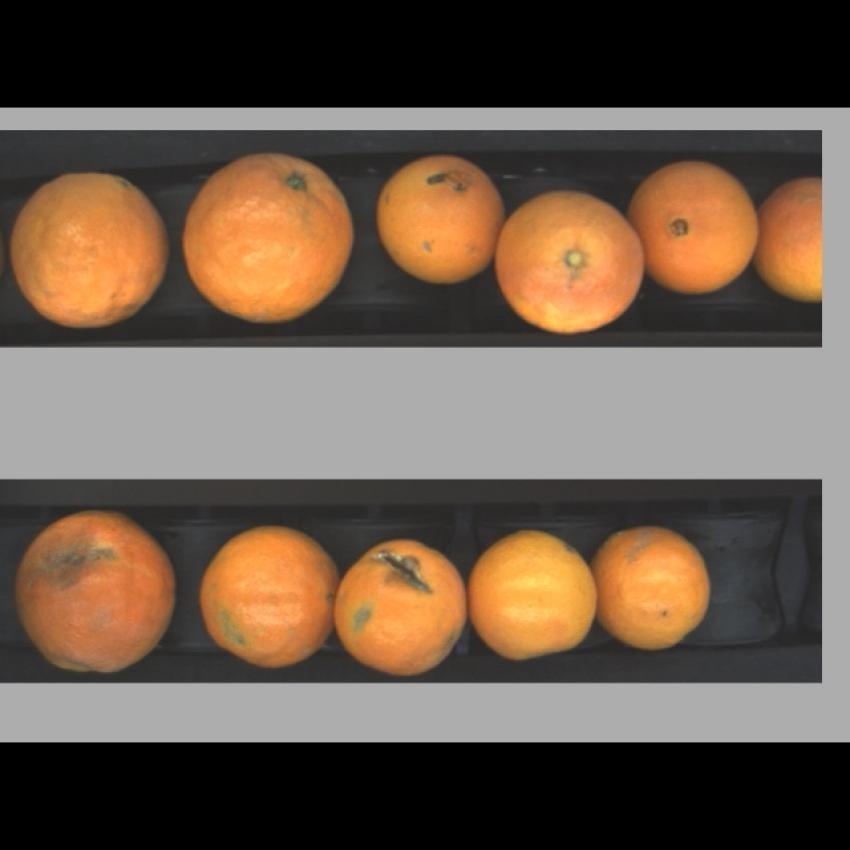Buen estado: (468, 532, 602, 660), (628, 162, 761, 290)
Mal estado: (184, 151, 358, 319), (12, 511, 182, 676), (6, 170, 175, 327), (194, 525, 343, 670), (495, 187, 644, 326), (334, 536, 470, 675), (374, 150, 504, 290), (595, 529, 711, 652), (762, 174, 821, 301)
